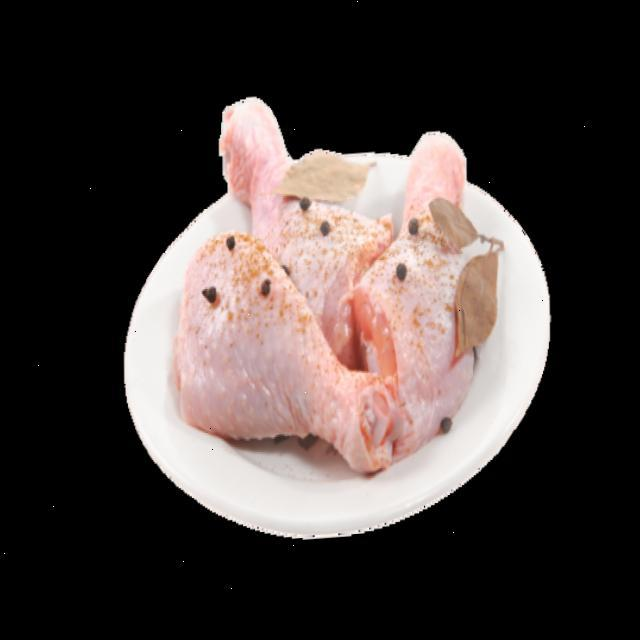leg: (178, 219, 398, 492), (212, 93, 382, 360), (352, 125, 482, 458)
